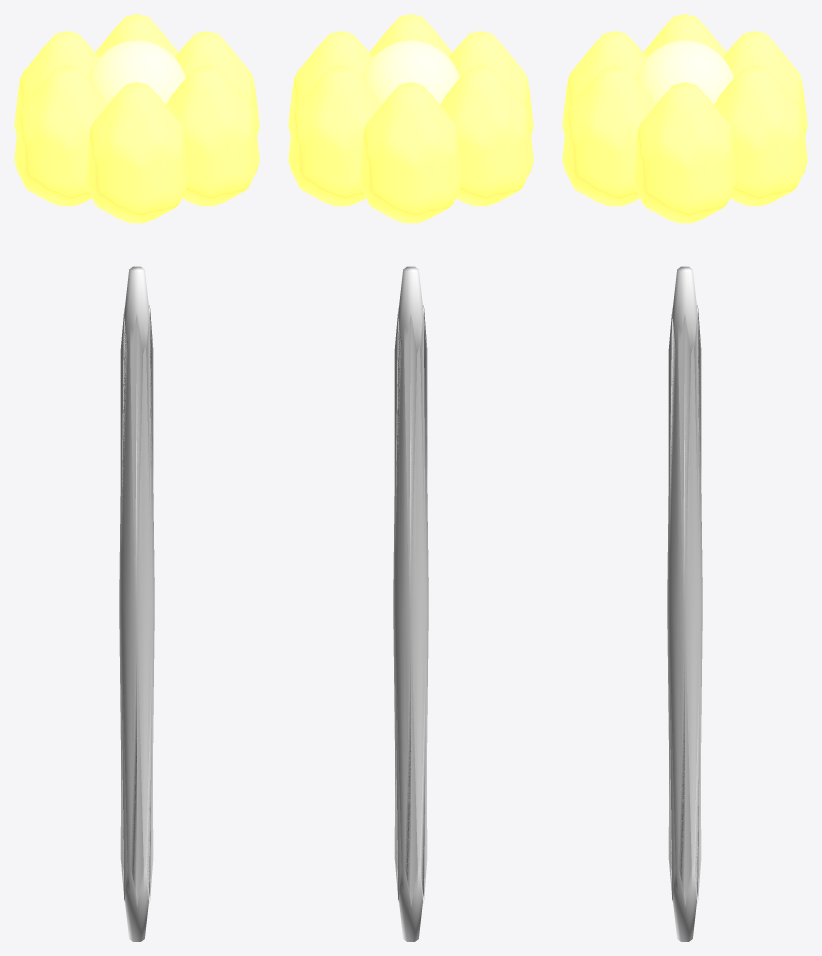
Rendered from plant_flower_lily_v3.glb.
3 renders of one model, left to right at view 1: azimuth 30°, elevation 25°; view 2: azimuth 150°, elevation 25°; view 3: azimuth 270°, elevation 25°, orthographic.
Visible parts, largest first — view 1: st.005, pt_4.004, pt_5.003, pt_3.004, center.003, pt_0.004, pt_2.004, pt_1.004; view 2: st.005, pt_2.004, pt_3.004, pt_1.004, center.003, pt_0.004, pt_4.004, pt_5.003; view 3: st.005, pt_0.004, pt_1.004, pt_5.003, center.003, pt_2.004, pt_4.004, pt_3.004.
Part boxes in pixels (<box>): st.005: <box>119,266,154,941</box>; pt_4.004: <box>86,82,187,223</box>; pt_5.003: <box>166,65,259,206</box>; pt_3.004: <box>14,65,107,206</box>; center.003: <box>88,40,185,104</box>; pt_0.004: <box>175,31,259,135</box>; pt_2.004: <box>14,31,98,135</box>; pt_1.004: <box>95,14,178,57</box>; st.005: <box>393,266,428,941</box>; pt_2.004: <box>360,82,461,223</box>; pt_3.004: <box>440,65,533,206</box>; pt_1.004: <box>288,65,381,206</box>; center.003: <box>362,40,459,104</box>; pt_0.004: <box>288,31,372,135</box>; pt_4.004: <box>449,31,533,135</box>; pt_5.003: <box>369,14,452,57</box>; st.005: <box>667,266,702,941</box>; pt_0.004: <box>634,82,735,223</box>; pt_1.004: <box>714,65,807,206</box>; pt_5.003: <box>562,65,655,206</box>; center.003: <box>636,40,733,104</box>; pt_2.004: <box>723,31,807,135</box>; pt_4.004: <box>562,31,646,135</box>; pt_3.004: <box>643,14,726,57</box>.
Size of the model in its own units: 0.1956 by 0.7342 by 0.1825.
